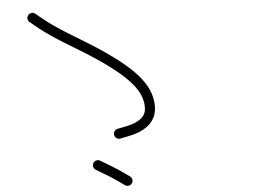i: (84, 155, 144, 193)
